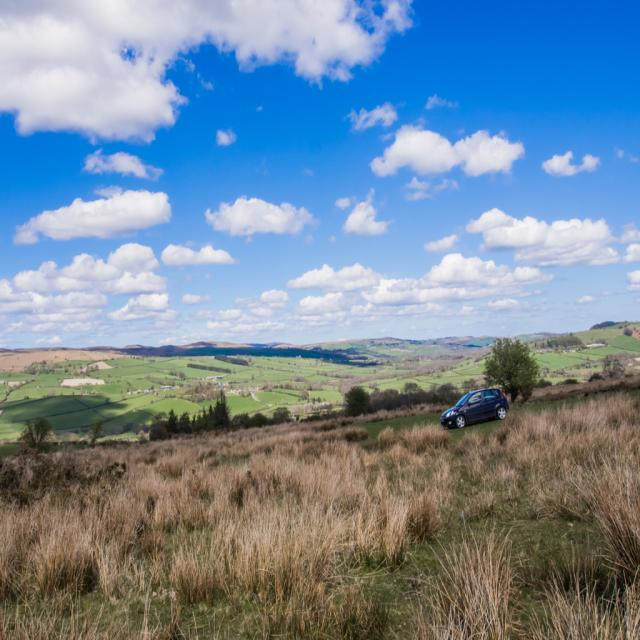car: (439, 388, 510, 432)
